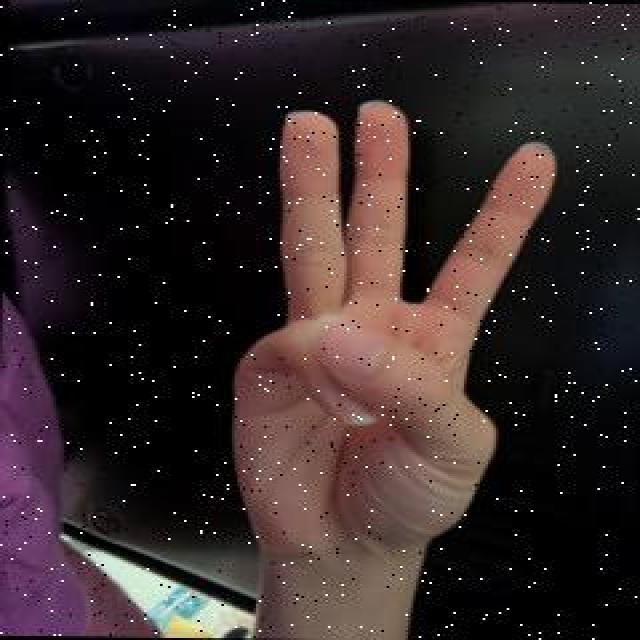W: (216, 93, 565, 565)
